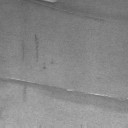finishing roll printing: (0, 78, 128, 104), (28, 0, 105, 22)
